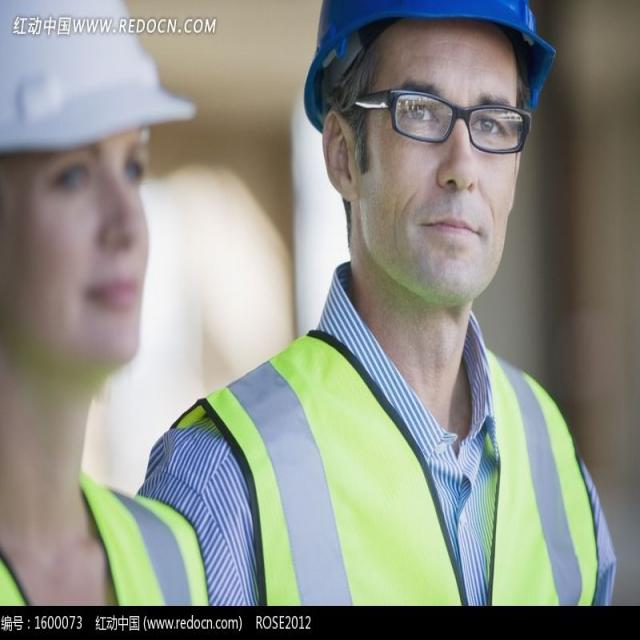Reflective-Jacket: (194, 334, 602, 594), (0, 476, 206, 604)
Safety-Helmet: (0, 3, 194, 176), (296, 0, 565, 124)
